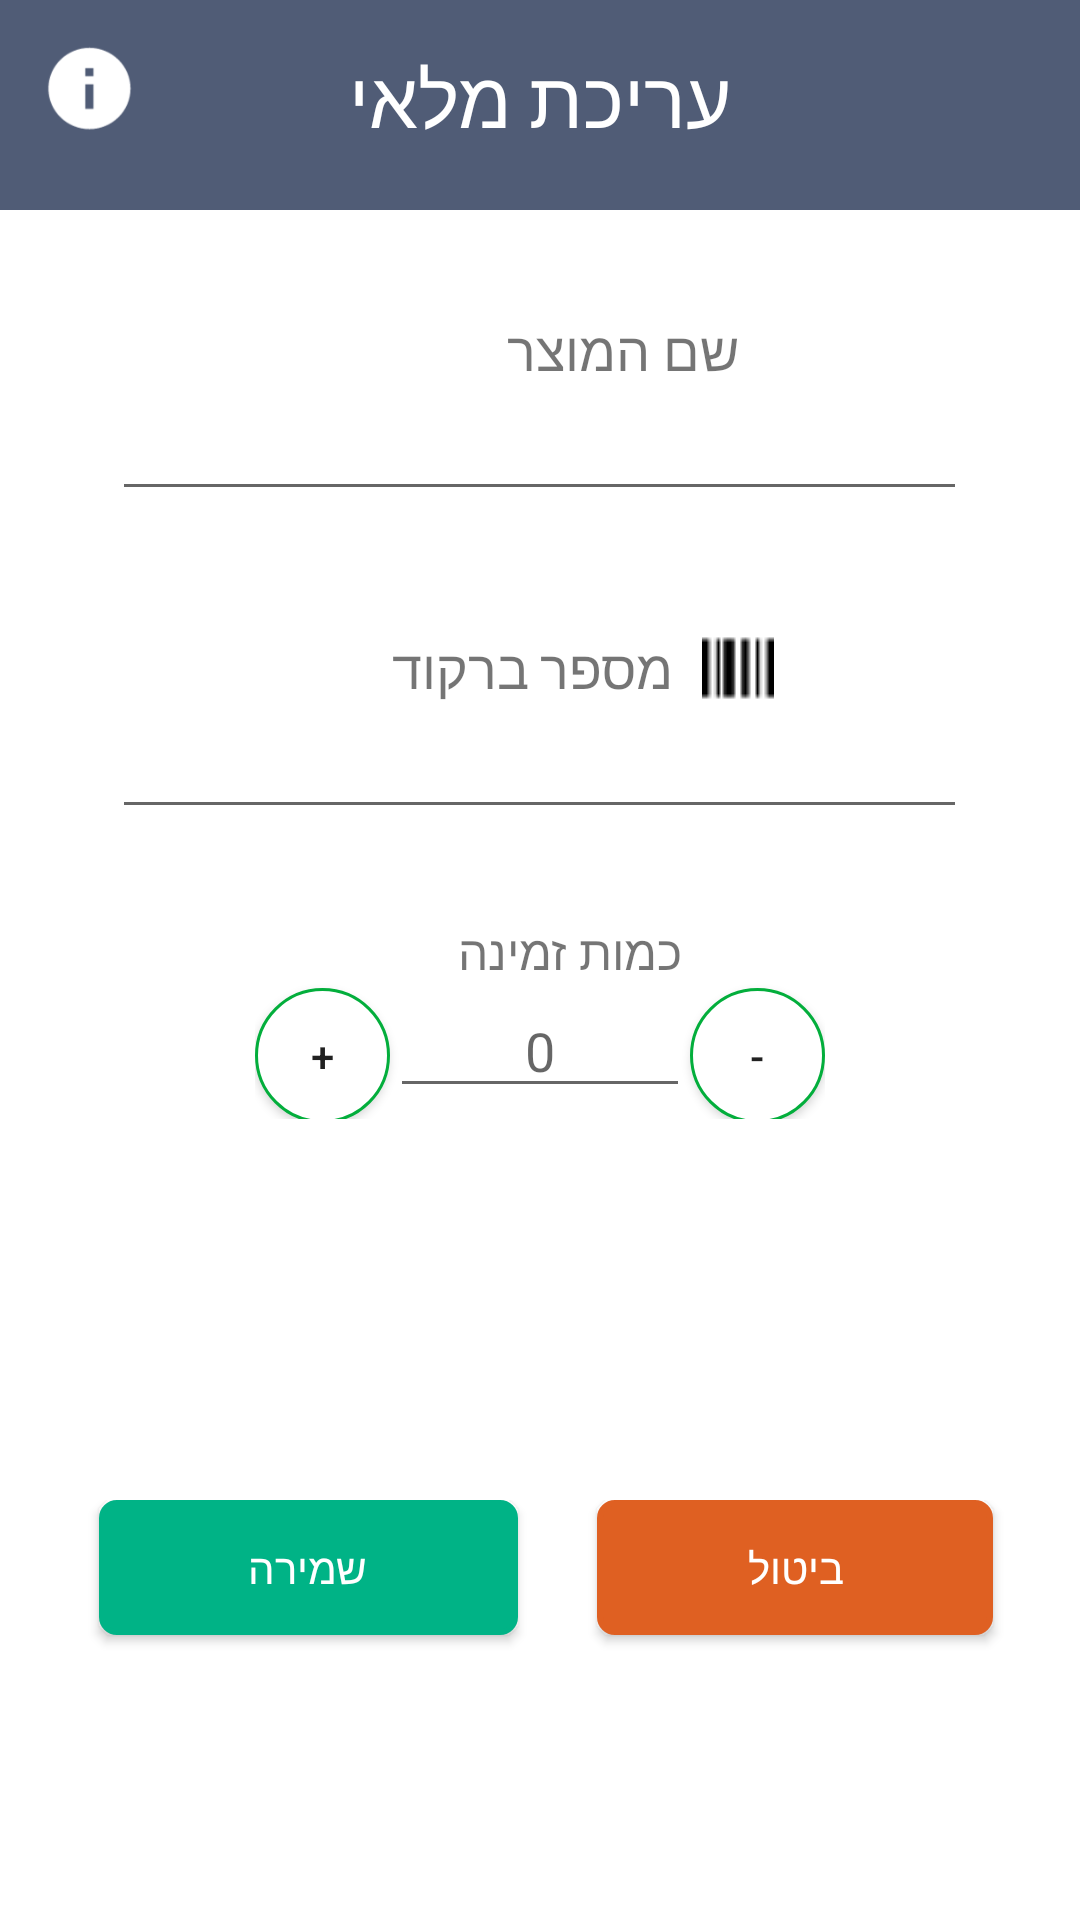

Icons on this 1080×1920 Android screen, each with the point to tap as [x,y]:
infor: [89,88]
